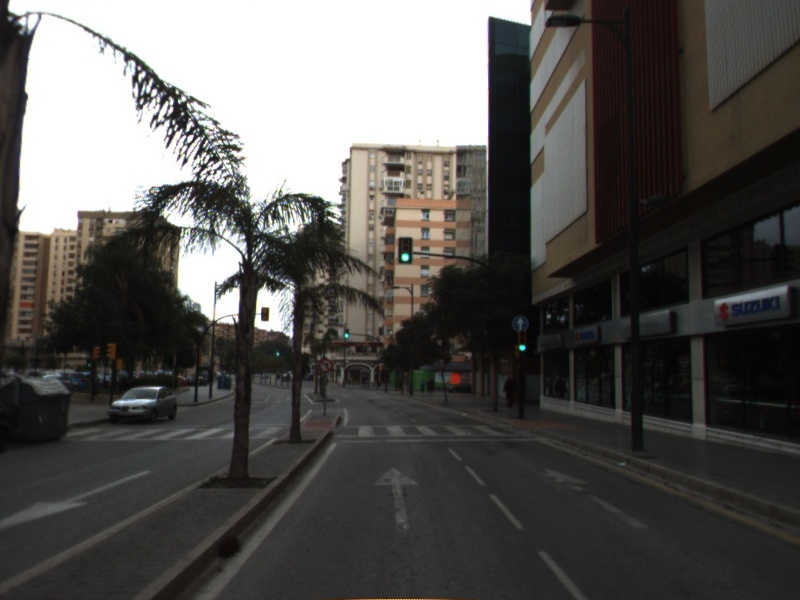STRAIGHT: (538, 463, 654, 532), (370, 463, 423, 536)
